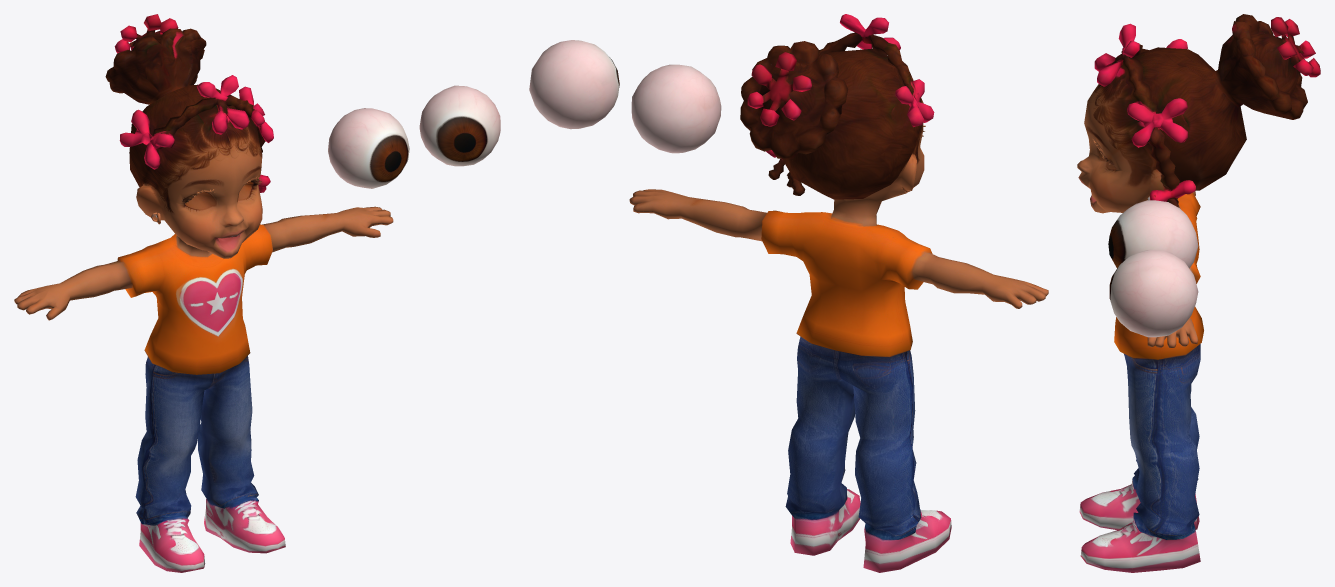
Rendered from cartoonbabycharacter.glb.
The picture shows the model from 3 angles, left to right: view 1: azimuth 30°, elevation 25°; view 2: azimuth 150°, elevation 25°; view 3: azimuth 270°, elevation 25°; orthographic projection. The views are drawn at different scales.
Visible parts, largest first — view 1: tripo_node_50a7342d-5049-4919-9b1e-95d367557fe7; view 2: tripo_node_50a7342d-5049-4919-9b1e-95d367557fe7; view 3: tripo_node_50a7342d-5049-4919-9b1e-95d367557fe7.
Part boxes in pixels (x1=…): tripo_node_50a7342d-5049-4919-9b1e-95d367557fe7: x1=14, y1=14, x2=500, y2=572; tripo_node_50a7342d-5049-4919-9b1e-95d367557fe7: x1=529, y1=14, x2=1048, y2=572; tripo_node_50a7342d-5049-4919-9b1e-95d367557fe7: x1=1077, y1=14, x2=1320, y2=572.
Size of the model in its own units: 0.998 by 0.9863 by 0.4121.
Materials: 1 (1 with a texture image).
